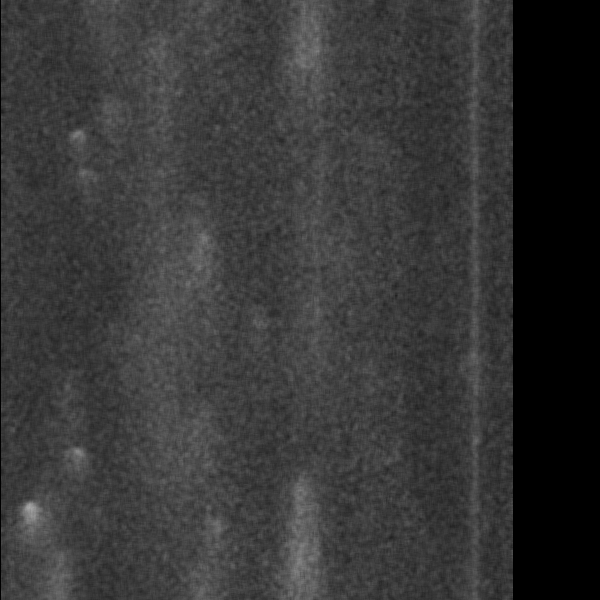spark: (267, 451, 327, 600), (285, 3, 335, 93), (13, 498, 47, 589), (43, 537, 88, 600), (201, 512, 227, 595), (191, 222, 214, 311), (62, 123, 90, 166), (65, 442, 90, 489), (185, 577, 214, 600), (143, 42, 167, 61), (73, 166, 91, 184)
